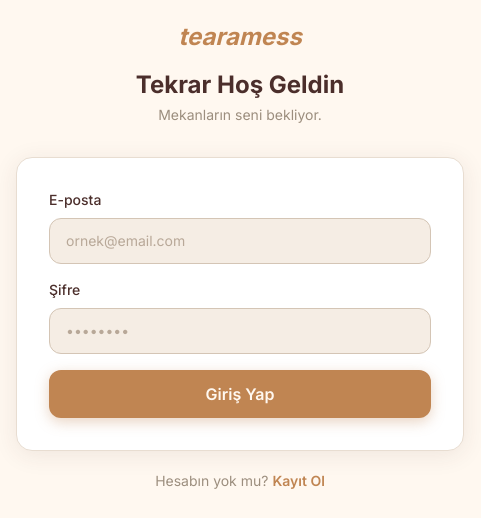
Test case: LoginPage Zod validation › shows inline password error when only password is short
The image size is (481, 518).
Type "test@example.com" into the field labelled "E-posta" at (240, 241), box 49,218 -> 431,264
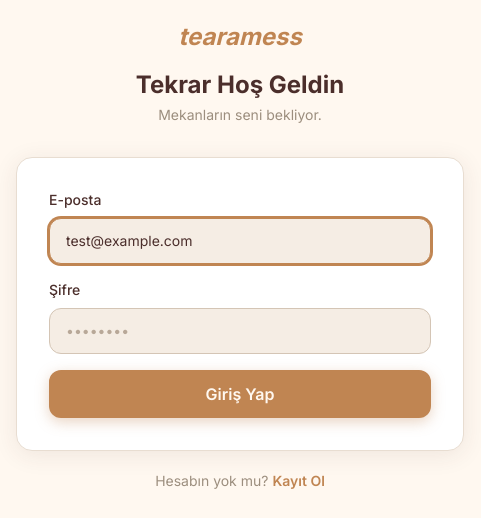
Click the button "Giriş Yap" at (240, 394), box 49,370 -> 431,418
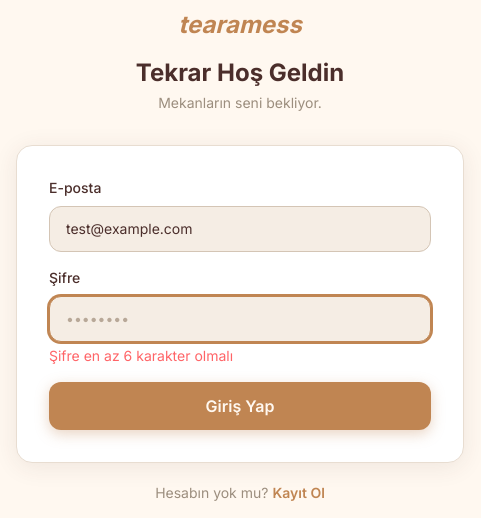
Check: the text "Şifre en az 6 karakter olmalı" is shown, box 49,347 -> 233,364
